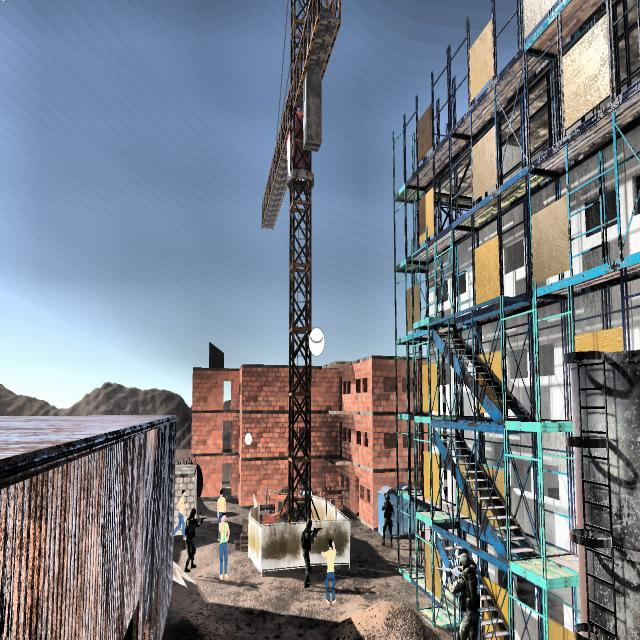bad: (440, 544, 479, 640), (294, 512, 315, 590), (186, 506, 200, 576), (379, 493, 395, 552)
good: (217, 511, 231, 584), (322, 542, 336, 608), (177, 487, 187, 549), (214, 487, 226, 515)
